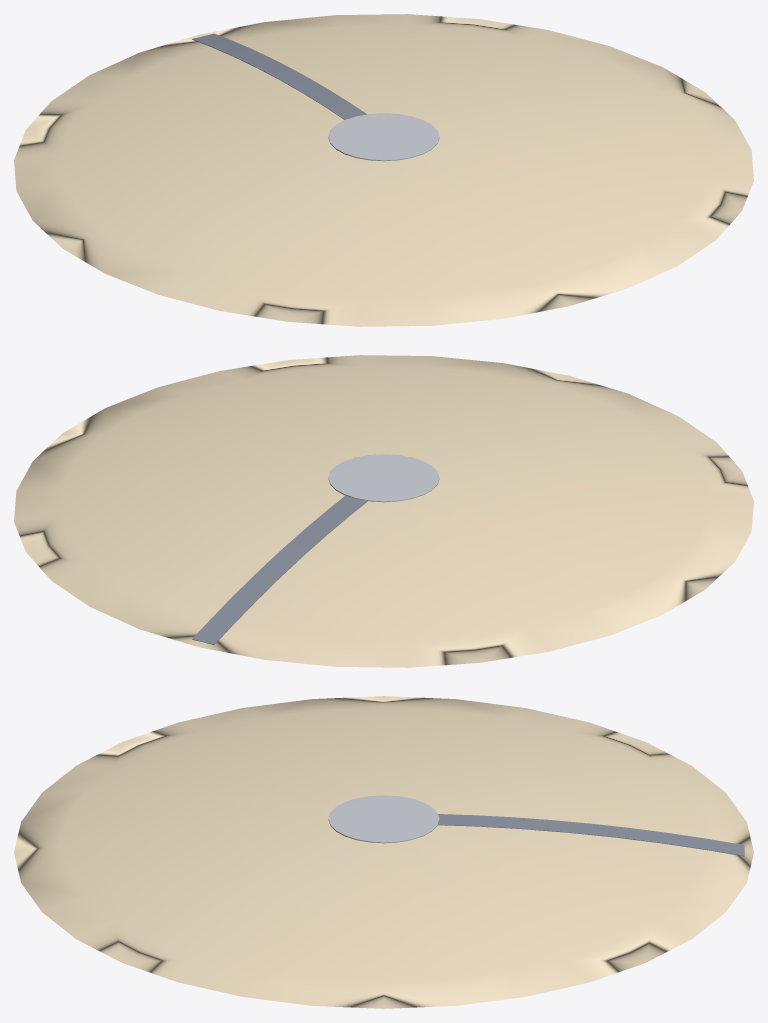
Rendered from Scene_Ground.fbx.
3 views of the same model, one above another, from view 1: azimuth 30°, elevation 25°; view 2: azimuth 150°, elevation 25°; view 3: azimuth 270°, elevation 25° (orthographic).
Parts seen in each view (by area): view 1: Scene_Ground.Land, Scene_Ground.Hardstand, Scene_Ground.Road; view 2: Scene_Ground.Land, Scene_Ground.Road, Scene_Ground.Hardstand; view 3: Scene_Ground.Land, Scene_Ground.Hardstand, Scene_Ground.Road.
Part boxes in pixels (bbox=[...]): Scene_Ground.Land: bbox=[14, 14, 753, 326]; Scene_Ground.Hardstand: bbox=[328, 113, 439, 161]; Scene_Ground.Road: bbox=[192, 33, 366, 119]; Scene_Ground.Land: bbox=[14, 355, 753, 667]; Scene_Ground.Road: bbox=[192, 495, 367, 644]; Scene_Ground.Hardstand: bbox=[328, 454, 439, 502]; Scene_Ground.Land: bbox=[14, 696, 753, 1008]; Scene_Ground.Hardstand: bbox=[328, 795, 439, 843]; Scene_Ground.Road: bbox=[438, 814, 744, 856].
Bounding box in the file's own units: 800 × 40.3 × 800.
Materials: 1 (1 with a texture image).
